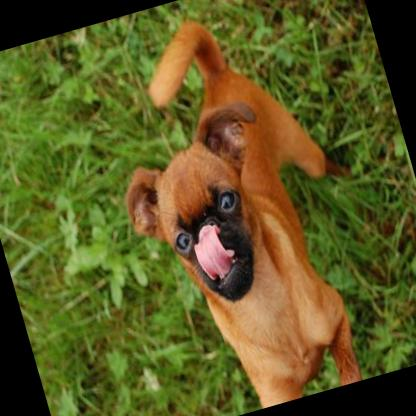Brabancon_griffon: (80, 0, 404, 416)
